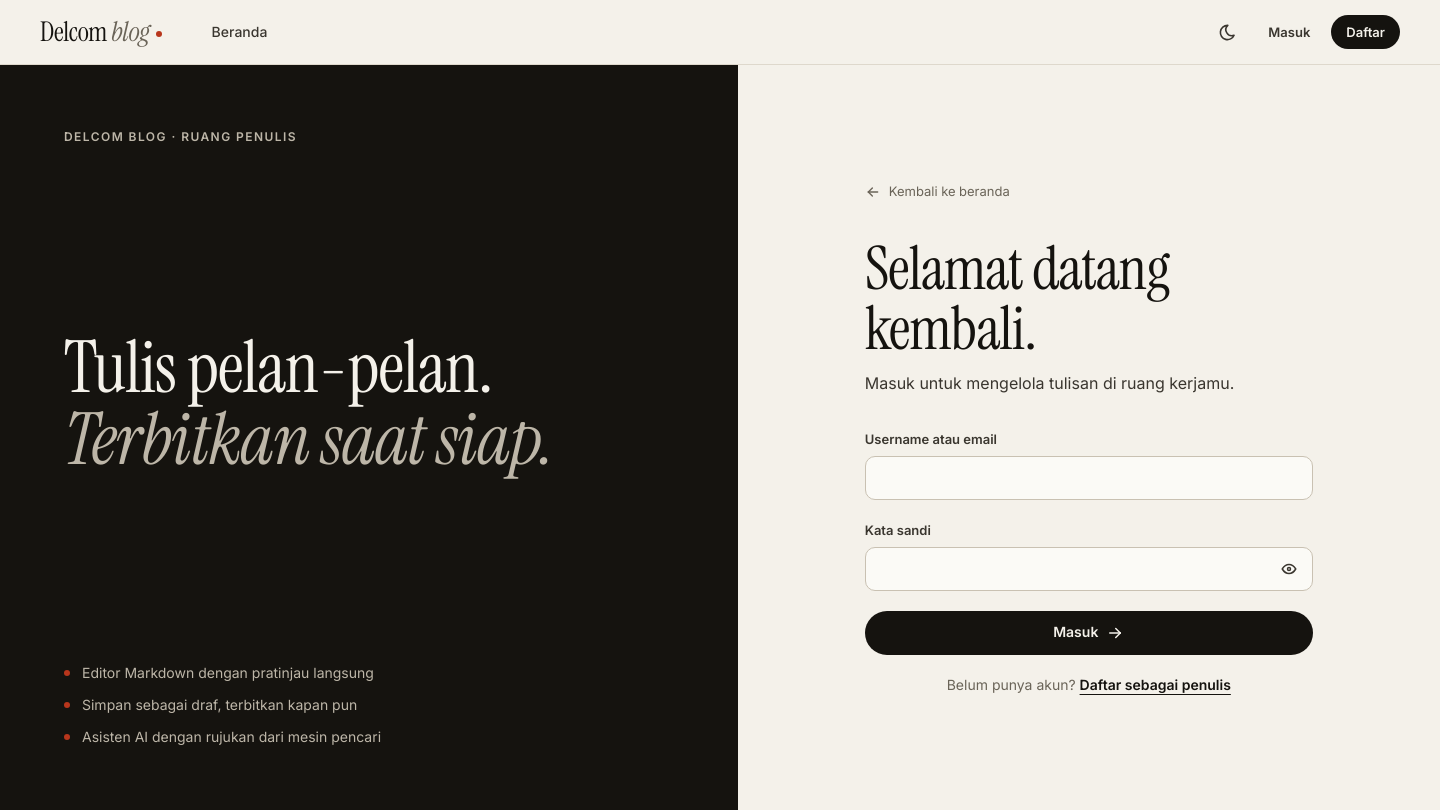
Test: App › logs in from the login page and lands in the workspace
expect the heading "Selamat datang kembali." is shown: met, box [865, 230, 1169, 368]
In the field with id "login-username": (1089, 478) [865, 456, 1313, 500], type "siti"
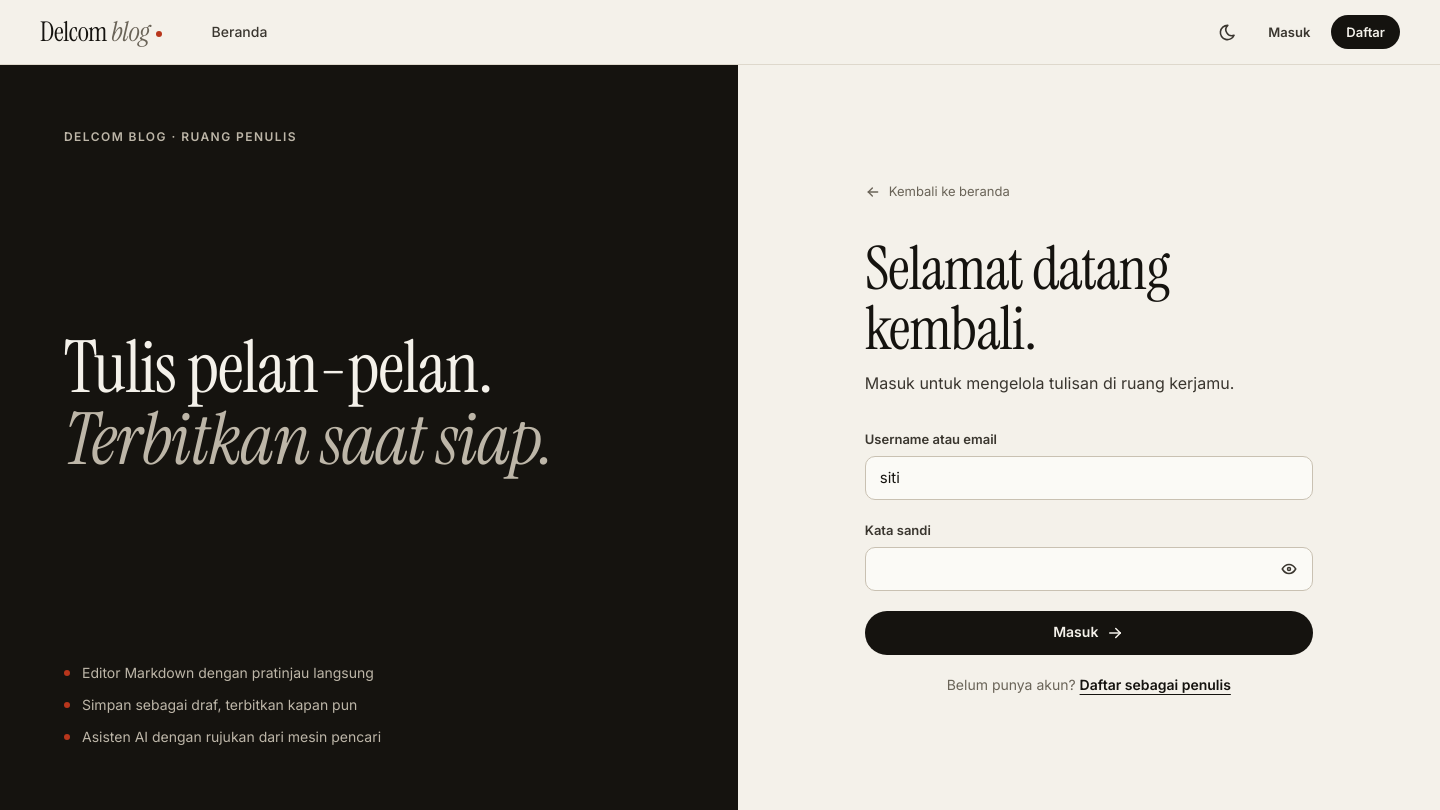
In the password field with id "login-password": (1089, 569) [865, 547, 1313, 591], type "rahasia"
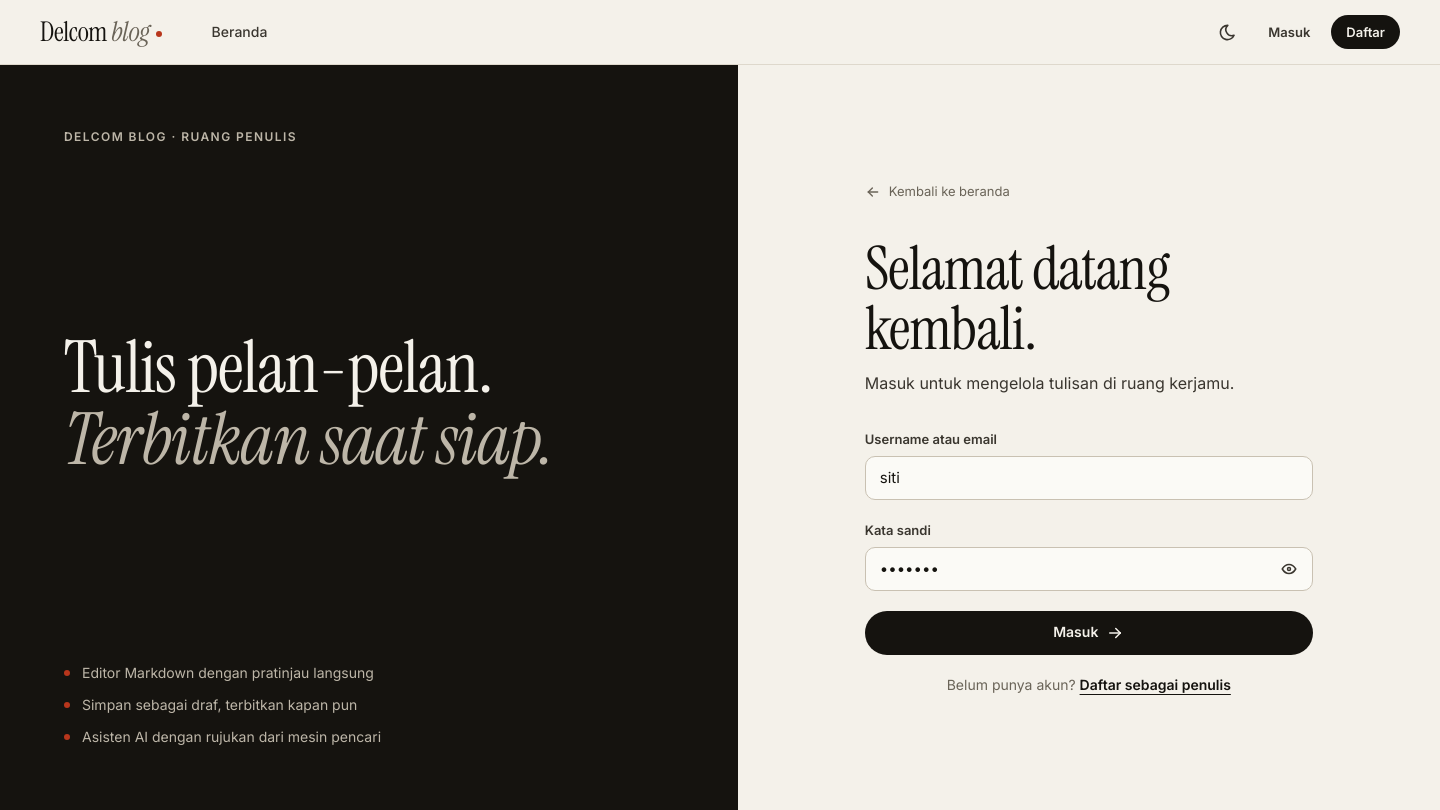
Click the button with id "login-submit": (1089, 633) [865, 611, 1313, 655]
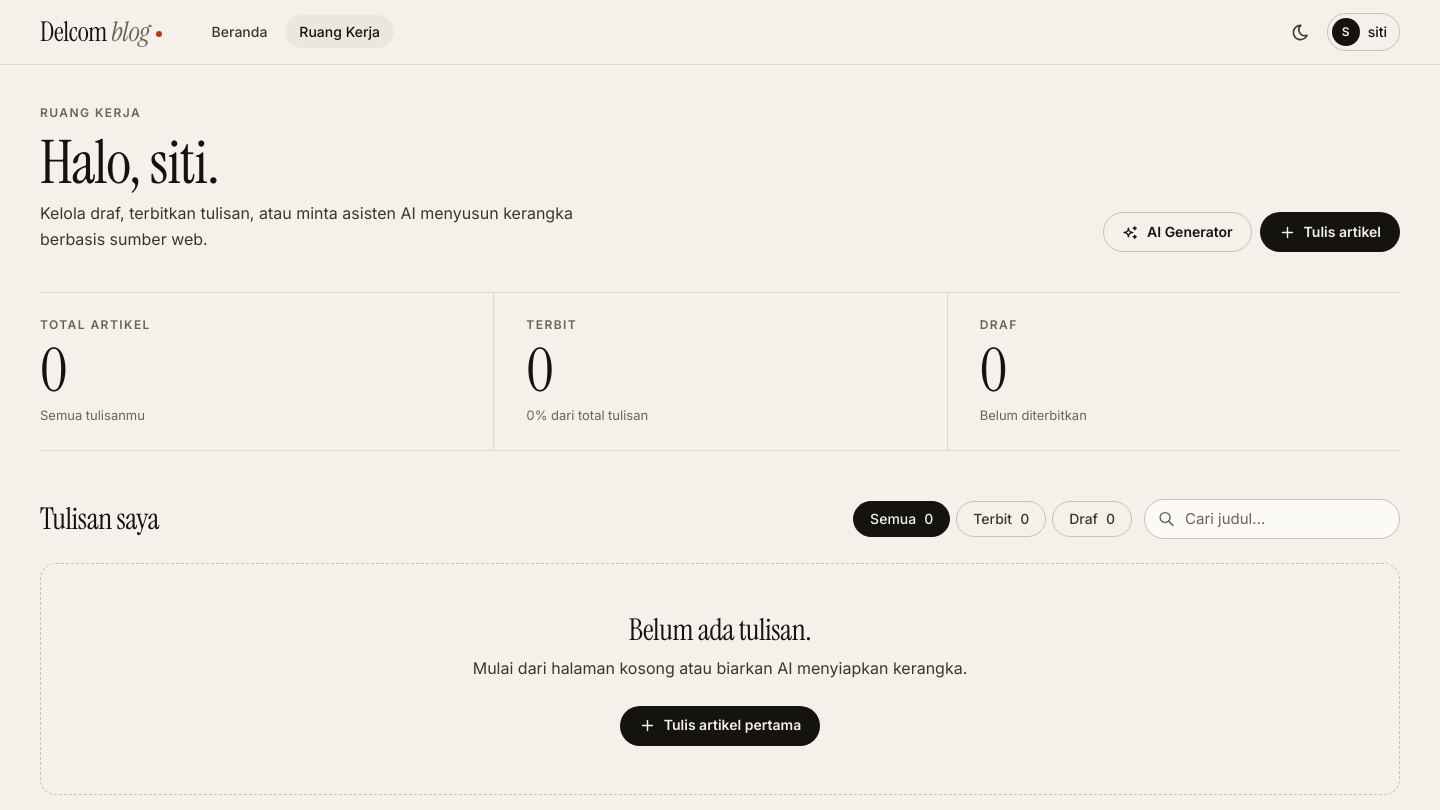
expect the heading "Halo, siti." is shown: met, box [40, 124, 219, 202]
